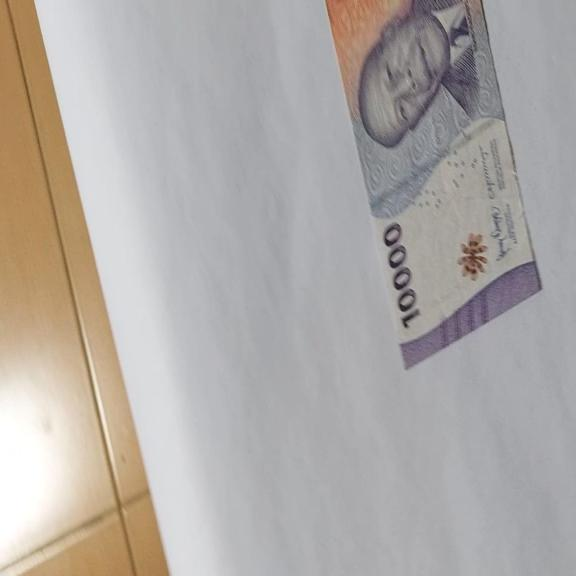Kertas: (332, 0, 542, 370), (382, 220, 421, 330)
